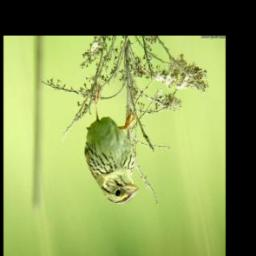Sparrow: (83, 86, 140, 205)
